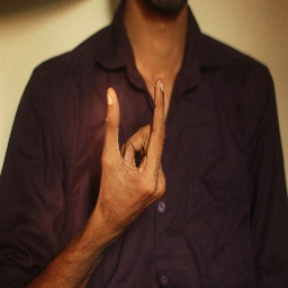U: (98, 76, 173, 208)
